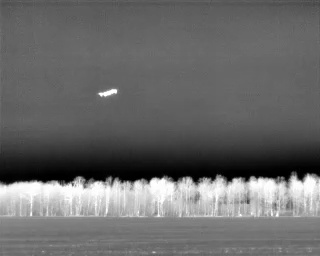DRONE: (95, 83, 122, 102)
